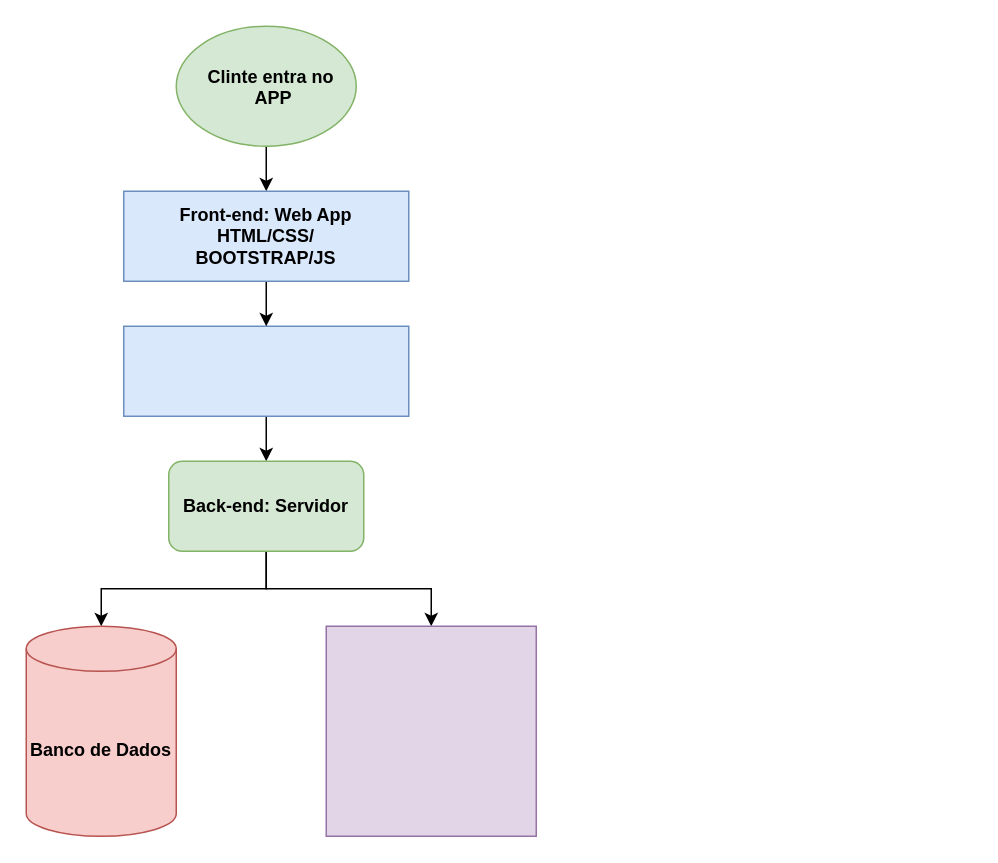
Image size: 998x863. Some labels were removed from this diagram. Here are the shapes that lost their labels. From the top down, the box of each, then its label:
(122, 325, 409, 416): 1.Envia a Origem e Destino Requisições HTTP/JOSON
(325, 625, 536, 836): Módulo de Rotas: Fómula de Haversine/Geopy
